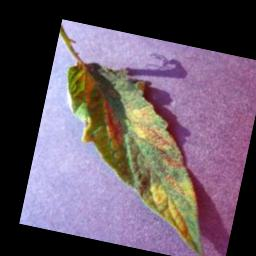Leaf_Mold: (35, 56, 237, 256)
